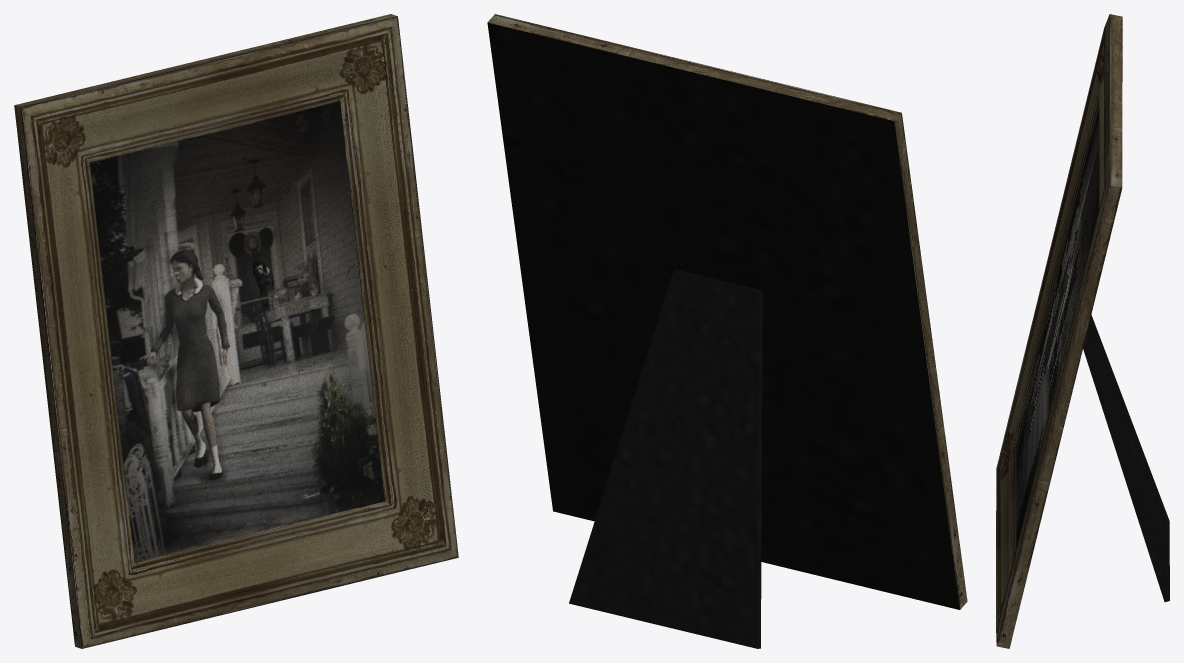
The model's file is PhotoGirl_A.FBX.
The picture shows the model from 3 angles, left to right: view 1: azimuth 30°, elevation 25°; view 2: azimuth 150°, elevation 25°; view 3: azimuth 270°, elevation 25°; orthographic projection. The views are drawn at different scales.
Parts seen in each view (by area): view 1: PhotoGirl_A; view 2: PhotoGirl_A; view 3: PhotoGirl_A.
Boxes of the visible parts, x1,y1,x2,y2 form: PhotoGirl_A: [14, 14, 458, 648]; PhotoGirl_A: [487, 14, 967, 648]; PhotoGirl_A: [996, 14, 1169, 648].
Bounding box in the file's own units: 42.08 × 53.4 × 18.12.
Materials: 1 (1 with a texture image).
